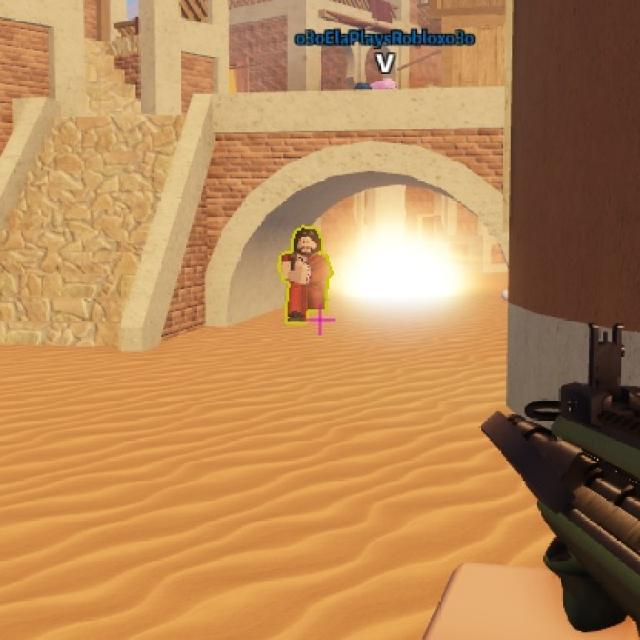player: (278, 226, 330, 325)
